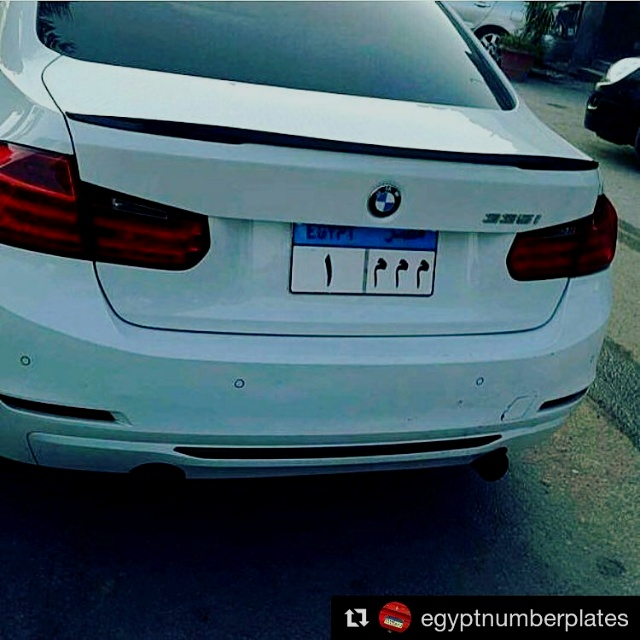License Plate: (281, 218, 445, 303)
